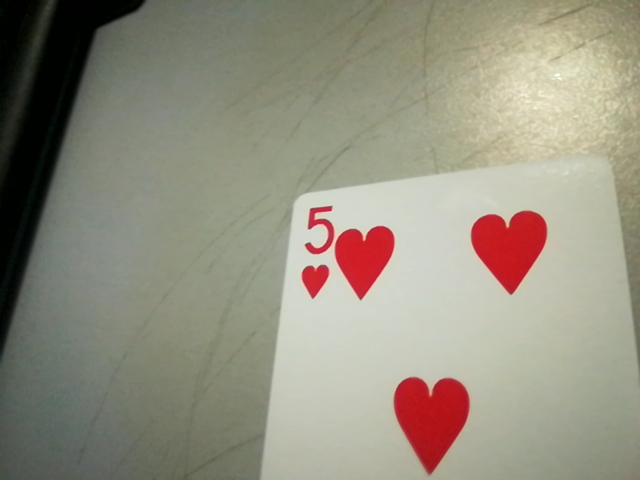hx 5: (291, 203, 338, 306)
